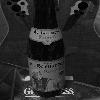beer: (25, 1, 67, 100)
